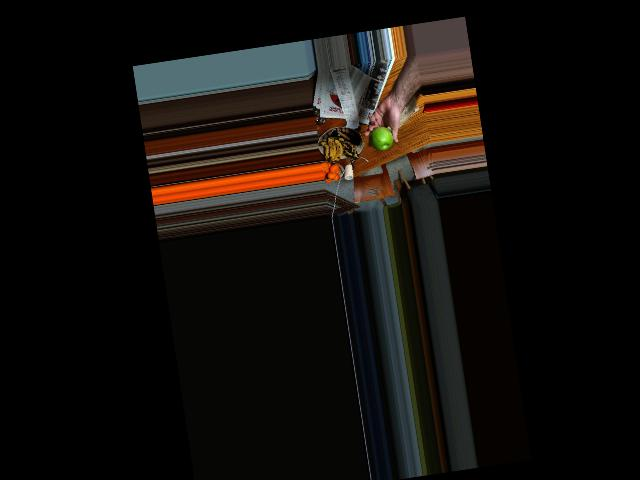apple: (368, 123, 394, 151)
